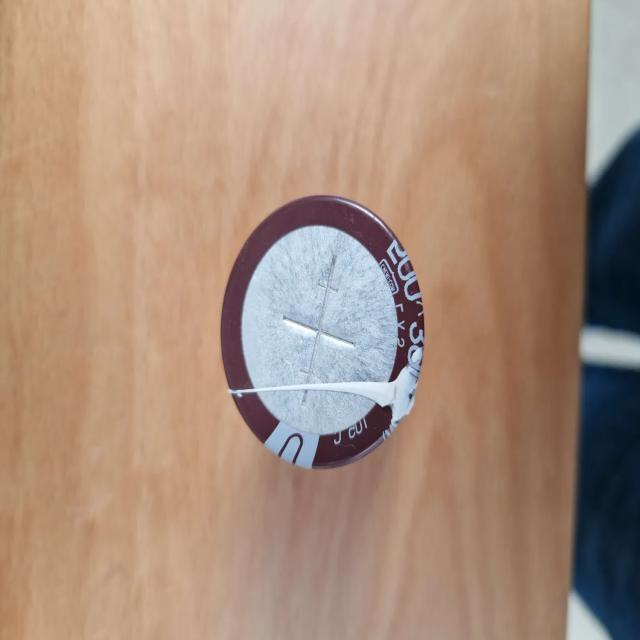C: (222, 197, 424, 469)
